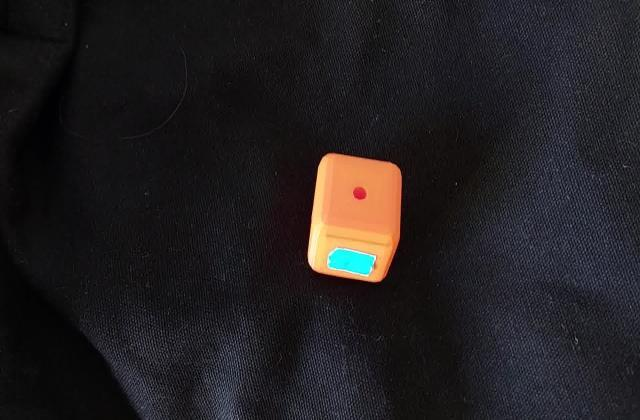blue: (344, 256, 364, 270)
cube: (303, 151, 407, 286)
